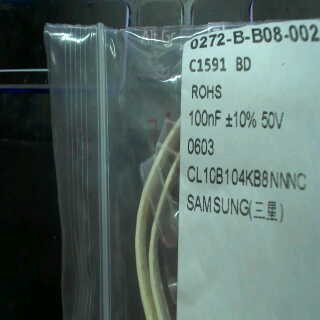100nF: (183, 104, 223, 131)
